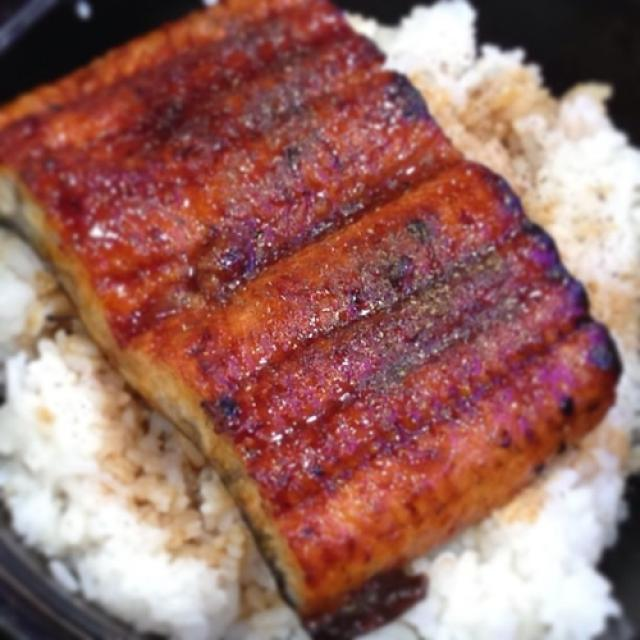熟制海鲜: (15, 15, 617, 613)
